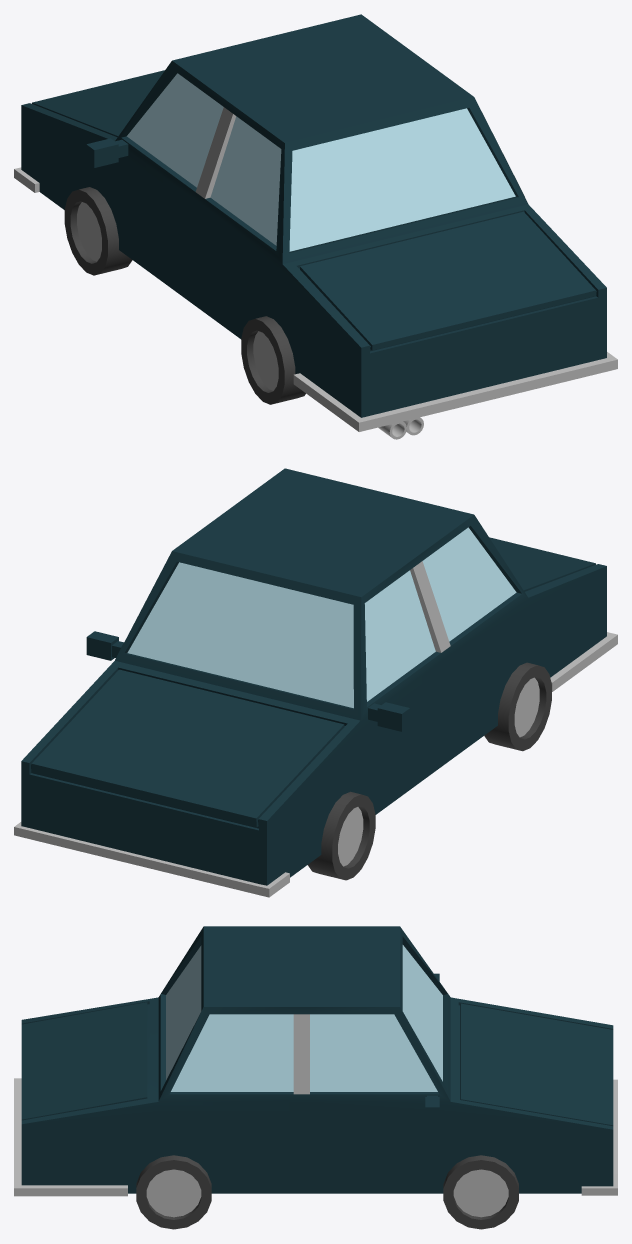
The model's file is M_Car_Other_02.FBX.
3 views of the same model, one above another, from view 1: azimuth 30°, elevation 25°; view 2: azimuth 150°, elevation 25°; view 3: azimuth 270°, elevation 25° (orthographic). The views are drawn at different scales.
Visible parts, largest first — view 1: Car002; view 2: Car002; view 3: Car002.
Part boxes in pixels (<box>): Car002: <box>14,14,617,439</box>; Car002: <box>14,468,617,897</box>; Car002: <box>14,926,617,1229</box>.
Size of the model in its own units: 1.44 by 2.74 by 1.03.
